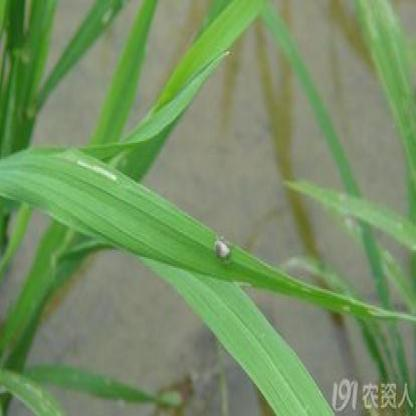rice-bug: (213, 239, 234, 263)
